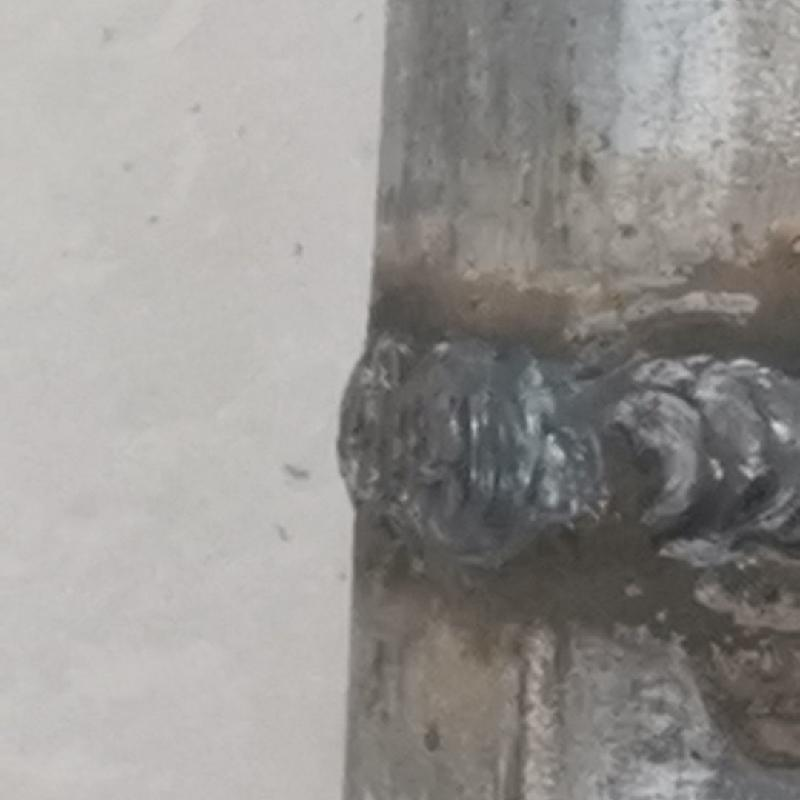good: (339, 318, 799, 562)
